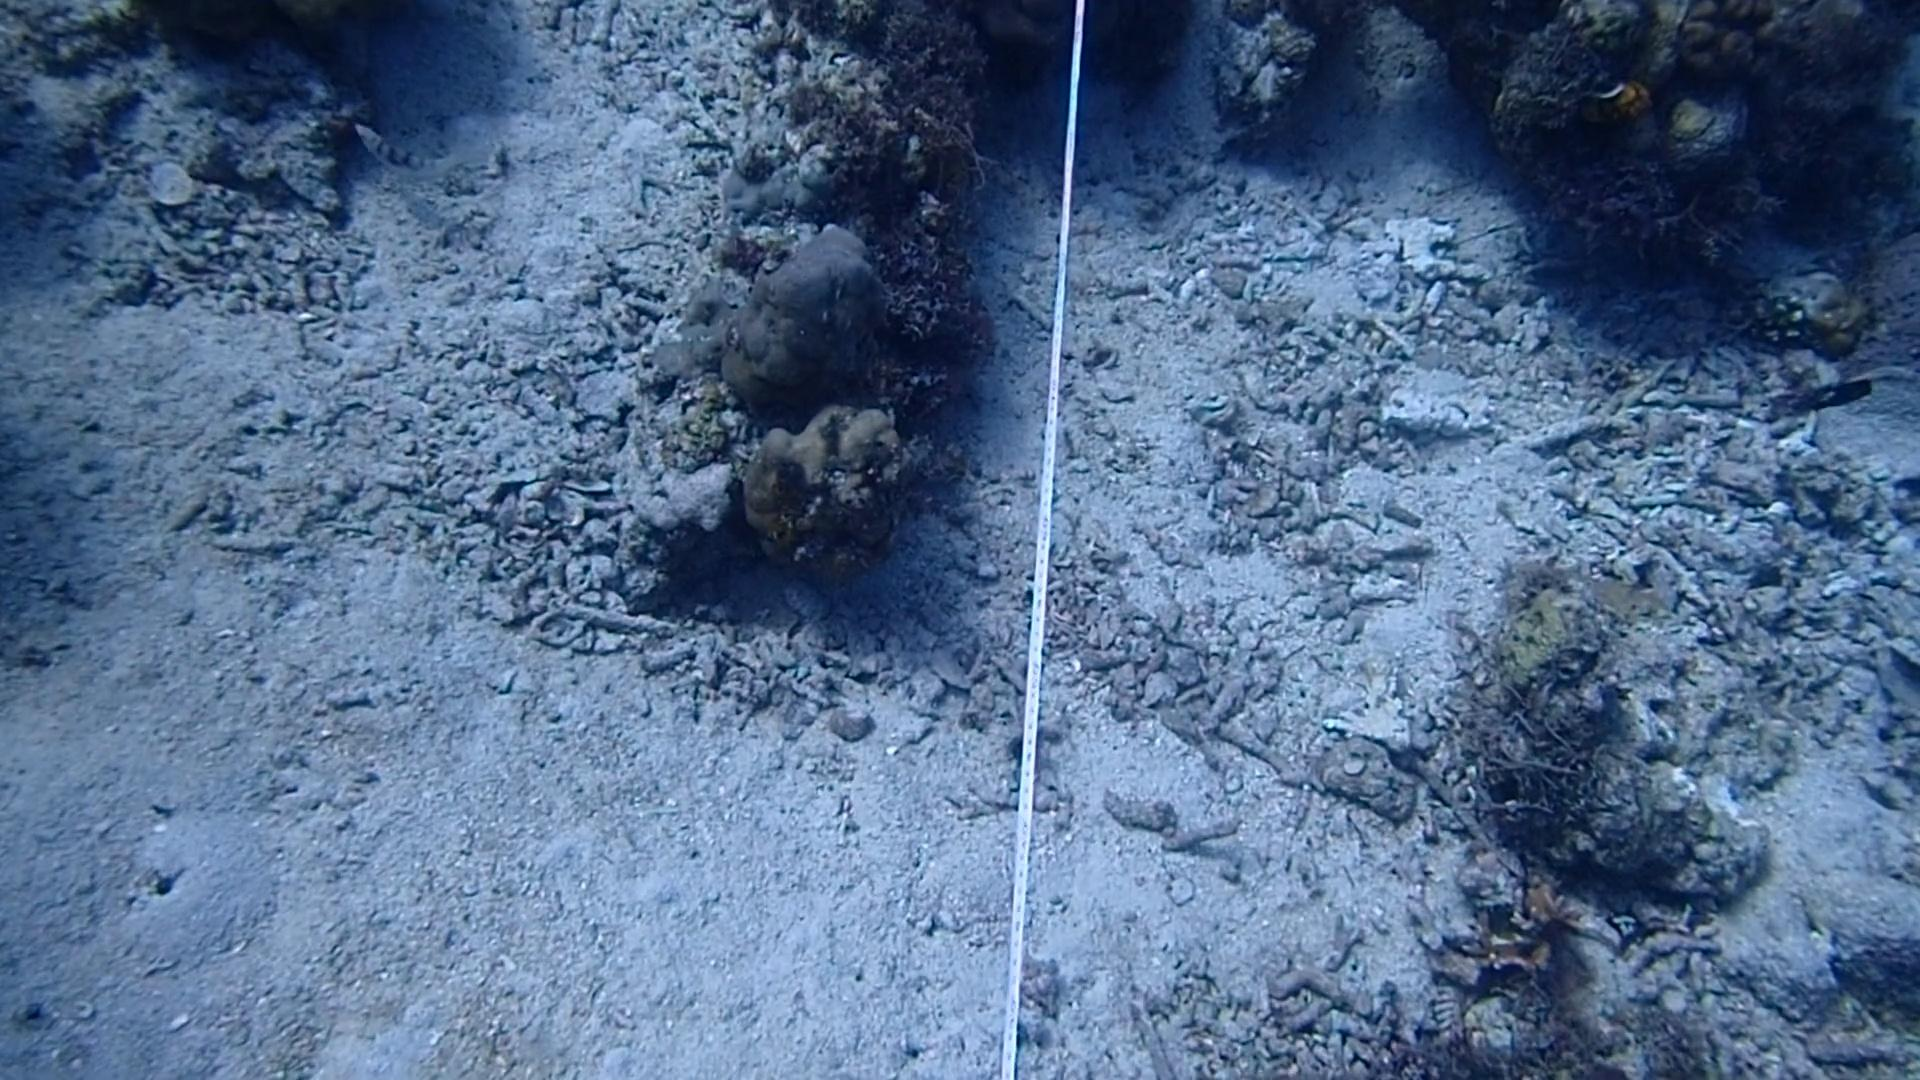Dark Fish: (1784, 361, 1886, 419)
